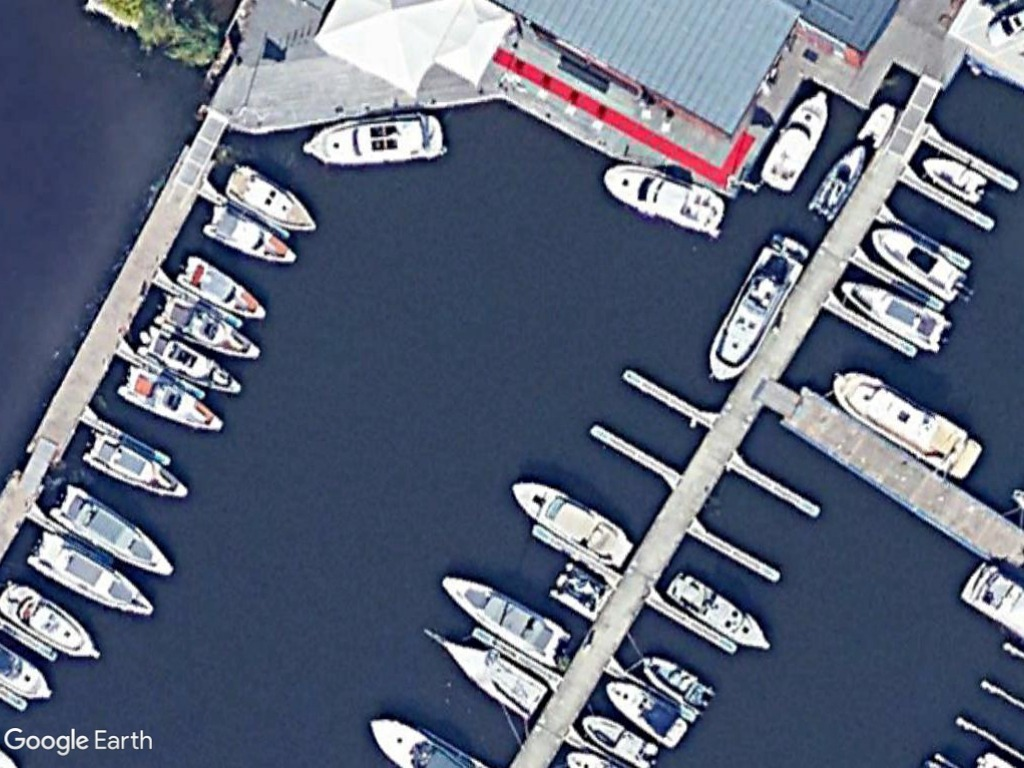boat: (828, 367, 985, 485), (700, 239, 811, 388), (48, 479, 182, 582), (436, 571, 571, 672), (422, 622, 552, 722), (27, 527, 158, 622), (508, 476, 636, 572), (599, 159, 729, 240), (665, 569, 776, 659), (837, 276, 953, 356), (0, 575, 103, 663), (298, 112, 448, 172), (81, 426, 190, 505), (755, 88, 833, 197), (133, 322, 244, 398), (154, 289, 267, 363), (116, 362, 227, 435), (868, 226, 969, 305), (221, 161, 322, 240), (174, 251, 268, 324), (203, 198, 300, 268), (603, 675, 692, 750), (804, 137, 873, 223), (637, 652, 715, 715), (577, 712, 659, 768), (918, 152, 994, 208), (854, 97, 899, 148)
